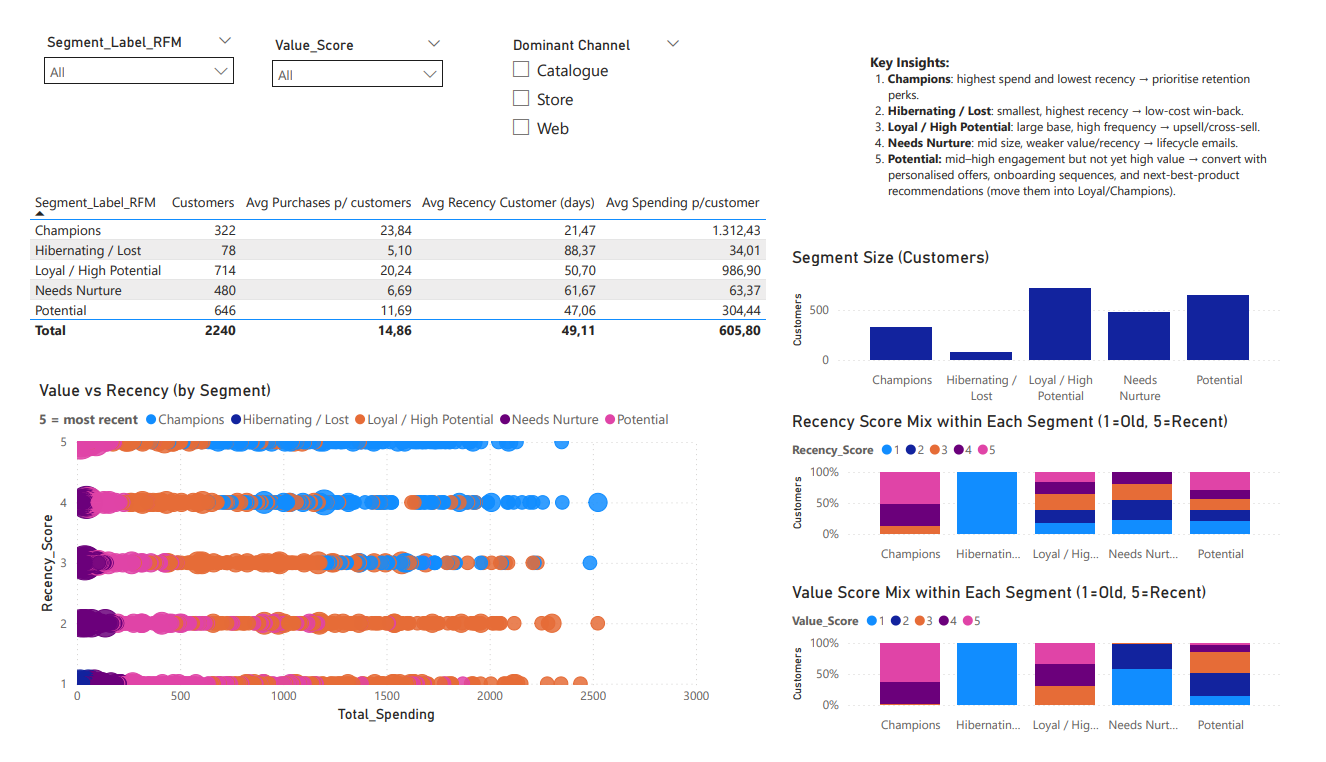

The page's visual inventory and layout, read from the dashboard file:
{"tool":"powerbi","page":{"name":"Segmentation","canvas":[1280,720],"ordinal":1},"visuals":[{"type":"slicer","fields":{"Values":["Customer.Segment_Label_RFM"]},"box":[10,9.1,210.4,77.1],"z":0},{"type":"slicer","fields":{"Values":["Customer.Value_Score"]},"box":[238.5,11.8,190.4,72.5],"z":1000},{"type":"lineClusteredColumnComboChart","title":"Segment Size (Customers)","fields":{"Category":["Customer.Segment_Label_RFM"],"Y":["CountNonNull(Customer.Id)"]},"box":[762.6,226.7,501.5,164.1],"z":2000},{"type":"scatterChart","title":"Value vs Recency (by Segment)","fields":{"Series":["Customer.Segment_Label_RFM"],"Y":["Customer.Recency_Score"],"X":["Customer.Total_Spending"],"Size":["CountNonNull(Customer.Total_Purchases)"]},"box":[10,360,680.1,347.3],"z":3000},{"type":"tableEx","fields":{"Values":["Customer.Segment_Label_RFM","Customer.Customers","Customer.Avg Purchases p/ customers","Customer.Avg Recency Customer (days)","Customer.Avg Spending p/customer"]},"box":[0,166.9,751.7,183.2],"z":4000},{"type":"slicer","title":"Value Score Mix within Each Segment (1=Low, 5=High)","fields":{"Values":["Customer.Dominant Channel"]},"box":[476.1,11.8,192.2,125.1],"z":5000},{"type":"hundredPercentStackedColumnChart","title":"Recency Score Mix within Each Segment (1=Old, 5=Recent)","fields":{"Category":["Customer.Segment_Label_RFM"],"Y":["CountNonNull(Customer.Id)"],"Series":["Customer.Recency_Score"]},"box":[762.6,390.8,501.5,157.8],"z":6000},{"type":"textbox","box":[840.6,39,390.8,169.6],"z":7000},{"type":"hundredPercentStackedColumnChart","title":"Value Score Mix within Each Segment (1=Old, 5=Recent)","fields":{"Category":["Customer.Segment_Label_RFM"],"Y":["CountNonNull(Customer.Id)"],"Series":["Customer.Value_Score"]},"box":[762.6,562.2,501.5,157.8],"z":8000}]}

Visuals, with their boxes in screenshot pixels (x1, y1, x2, y2), scaled from the page's 1280x720 canvas onto the 1326x762 screenshot:
slicer - Customer.Segment_Label_RFM: <region>10, 10, 228, 91</region>
slicer - Customer.Value_Score: <region>247, 12, 444, 89</region>
"Segment Size (Customers)" lineClusteredColumnComboChart: <region>790, 240, 1310, 414</region>
"Value vs Recency (by Segment)" scatterChart: <region>10, 381, 715, 749</region>
tableEx - Customer.Segment_Label_RFM x Customer.Customers: <region>0, 177, 779, 371</region>
"Value Score Mix within Each Segment (1=Low, 5=High)" slicer: <region>493, 12, 692, 145</region>
"Recency Score Mix within Each Segment (1=Old, 5=Recent)" hundredPercentStackedColumnChart: <region>790, 414, 1310, 581</region>
textbox: <region>871, 41, 1276, 221</region>
"Value Score Mix within Each Segment (1=Old, 5=Recent)" hundredPercentStackedColumnChart: <region>790, 595, 1310, 761</region>
